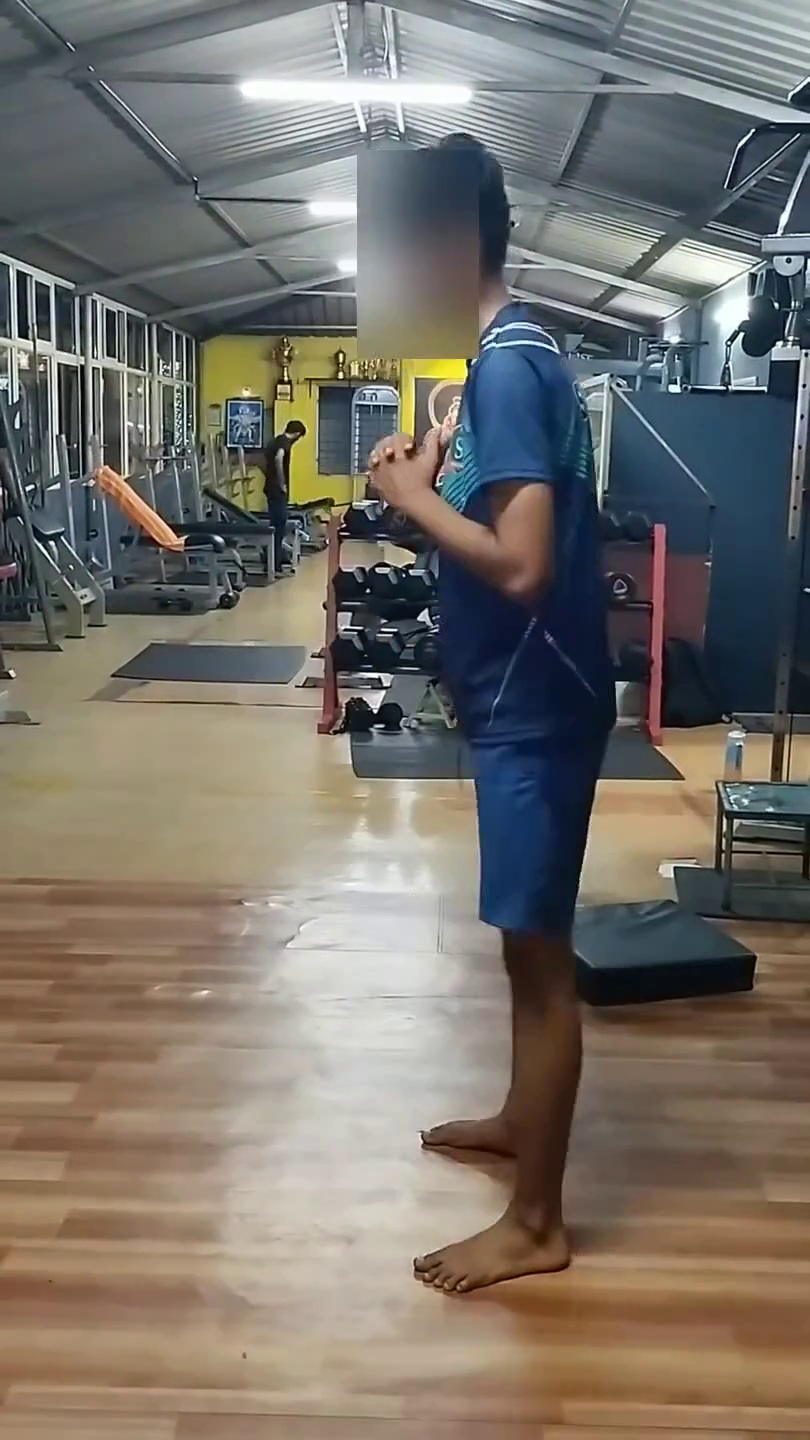squat_incorrect: (296, 151, 646, 1332)
